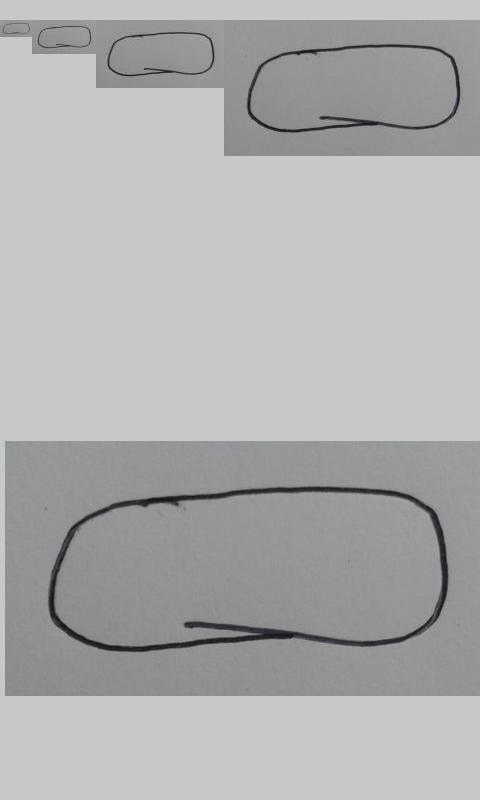chip: (49, 486, 451, 652), (247, 44, 461, 133), (107, 31, 215, 77), (37, 25, 92, 49), (2, 22, 31, 35)
